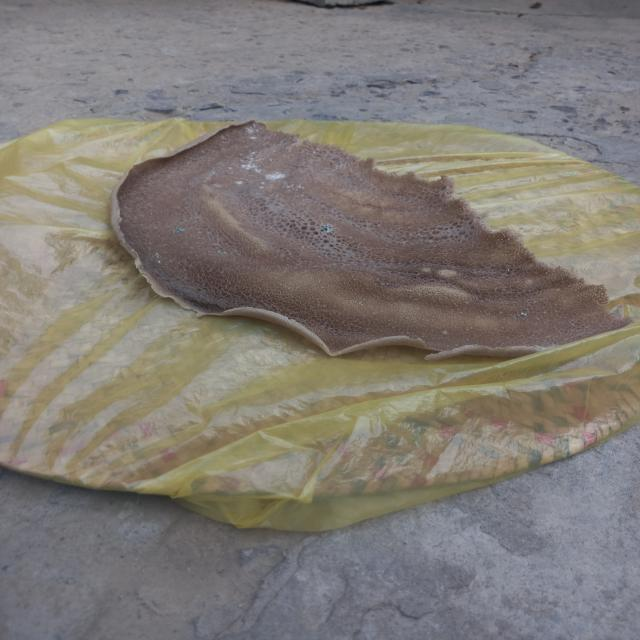injera_mold: (240, 152, 261, 162), (265, 172, 284, 180), (320, 223, 332, 235), (245, 126, 260, 135), (281, 185, 308, 190), (242, 163, 259, 170), (153, 251, 161, 260), (173, 225, 181, 233), (217, 249, 227, 255), (258, 182, 265, 190), (220, 135, 228, 142), (236, 180, 242, 186), (250, 135, 256, 140), (520, 312, 526, 317), (443, 330, 447, 334), (538, 348, 542, 352), (228, 167, 232, 170), (270, 159, 273, 162), (313, 151, 316, 154), (212, 171, 215, 174), (157, 261, 161, 263), (317, 148, 320, 150)
